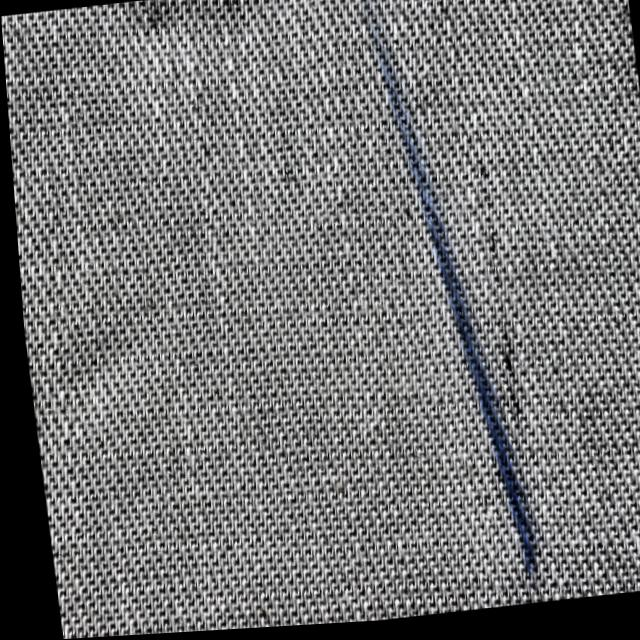Hole: (468, 195, 515, 318), (494, 331, 517, 428)
